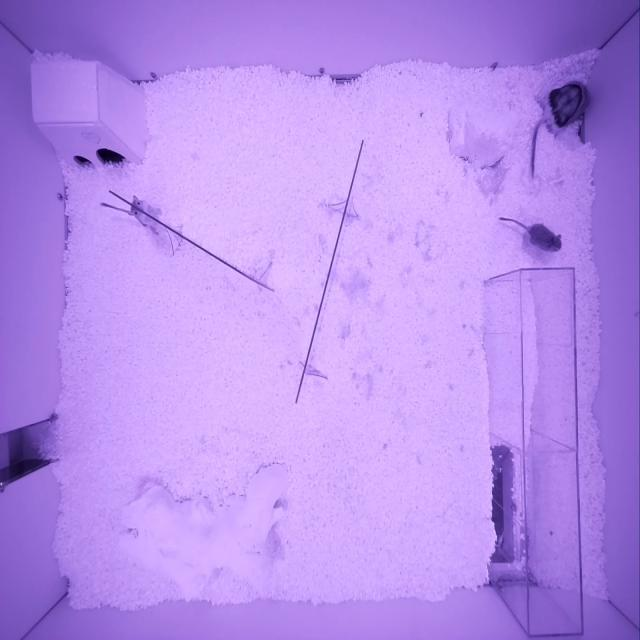adult_back: (543, 81, 591, 138)
pup_spotted: (524, 223, 562, 253)
pup_v_stripe: (128, 194, 163, 235)
